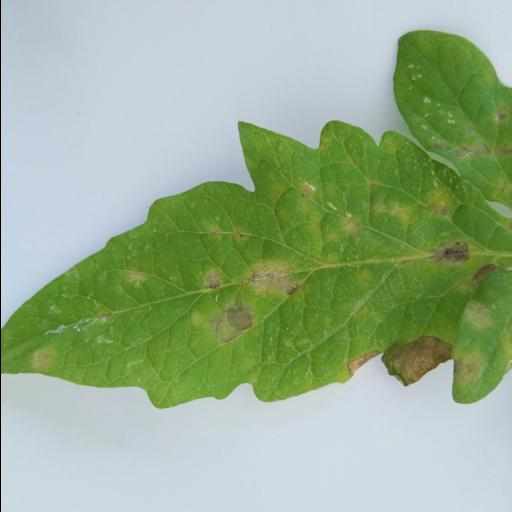Early Blight: (0, 26, 512, 414)
